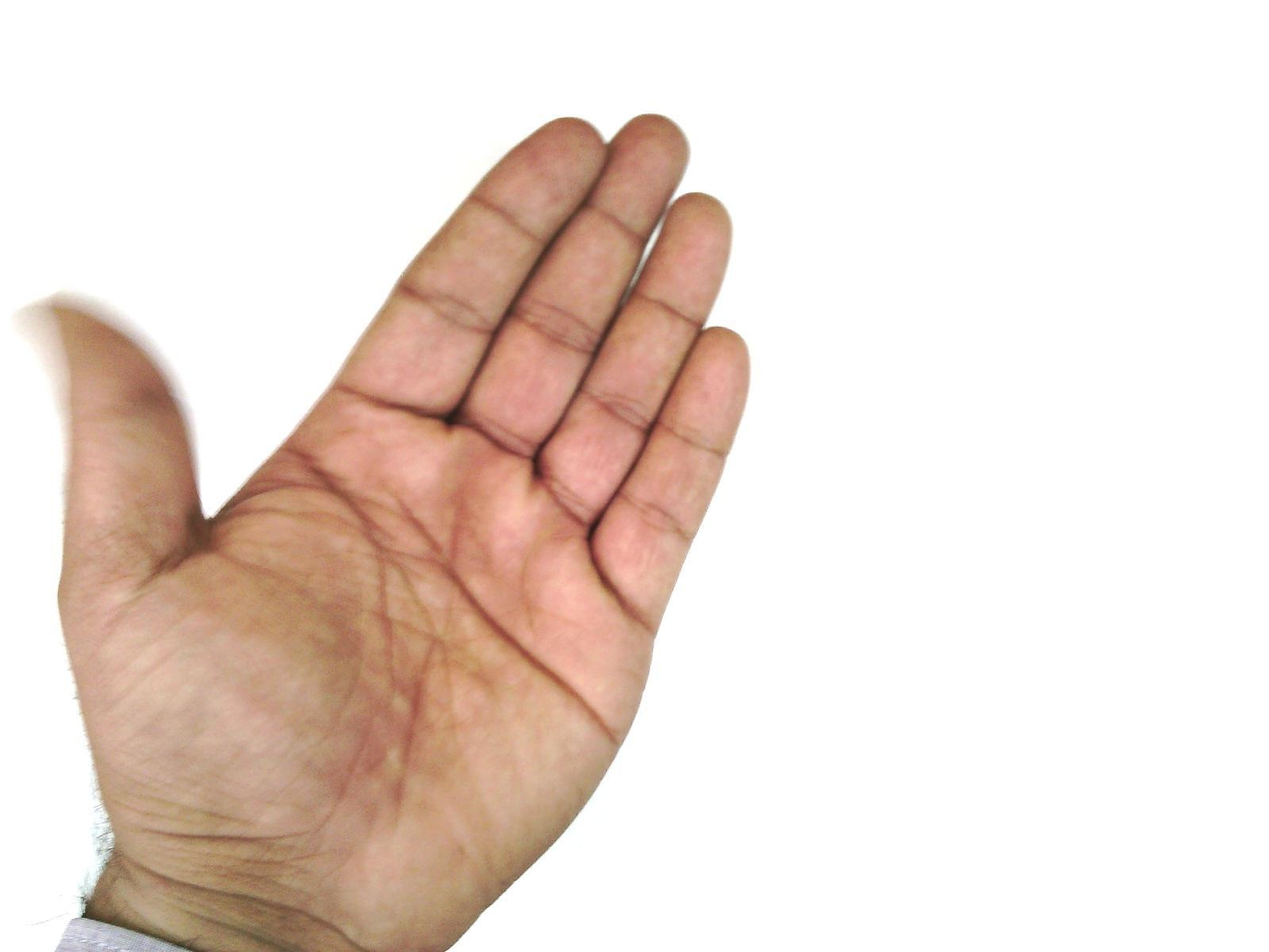open_palm: (22, 110, 755, 950)
